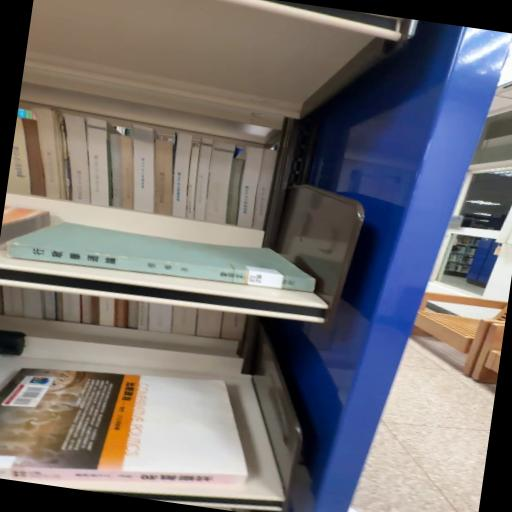flat: (1, 369, 249, 490), (8, 223, 315, 294)
